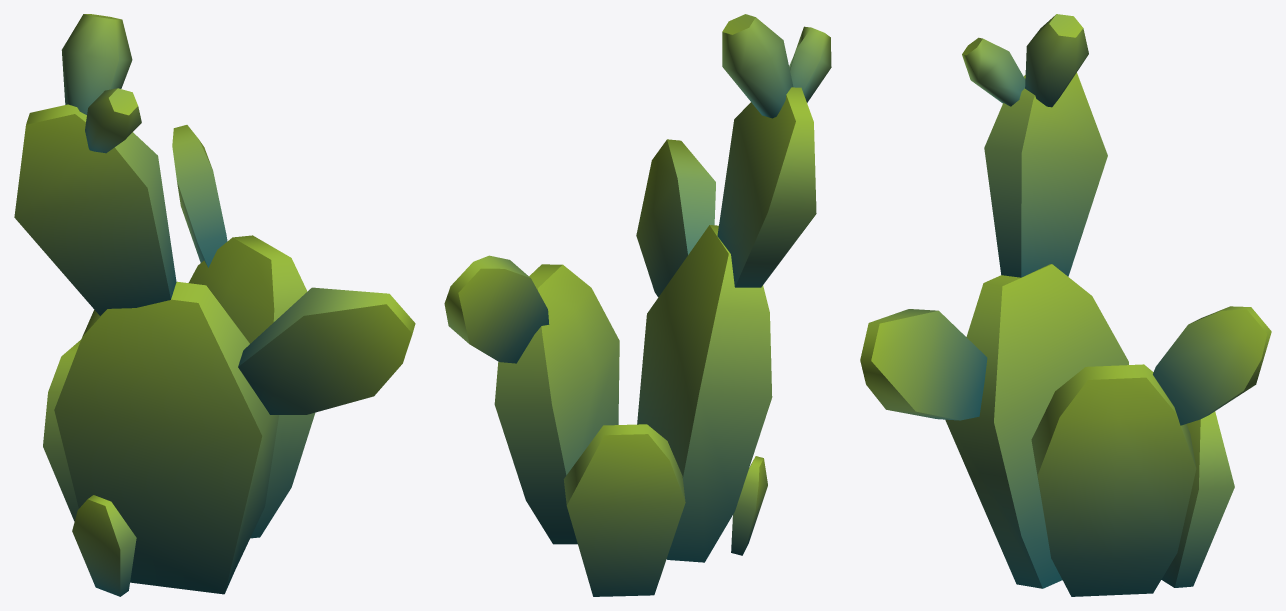
The picture shows the model from 3 angles, left to right: view 1: azimuth 30°, elevation 25°; view 2: azimuth 150°, elevation 25°; view 3: azimuth 270°, elevation 25°; orthographic projection. The views are drawn at different scales.
Parts seen in each view (by area): view 1: LOD 1_9307565563421575435_dfb458ee6005cff41928ff5135bac444; view 2: LOD 1_9307565563421575435_dfb458ee6005cff41928ff5135bac444; view 3: LOD 1_9307565563421575435_dfb458ee6005cff41928ff5135bac444.
Boxes of the visible parts, x1,y1,x2,y2 form: LOD 1_9307565563421575435_dfb458ee6005cff41928ff5135bac444: (14, 14, 415, 596); LOD 1_9307565563421575435_dfb458ee6005cff41928ff5135bac444: (444, 14, 831, 596); LOD 1_9307565563421575435_dfb458ee6005cff41928ff5135bac444: (860, 14, 1271, 596).
Size of the model in its own units: 0.5619 by 1.06 by 0.7489.
